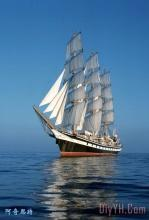fanchuan: (35, 31, 124, 157)
